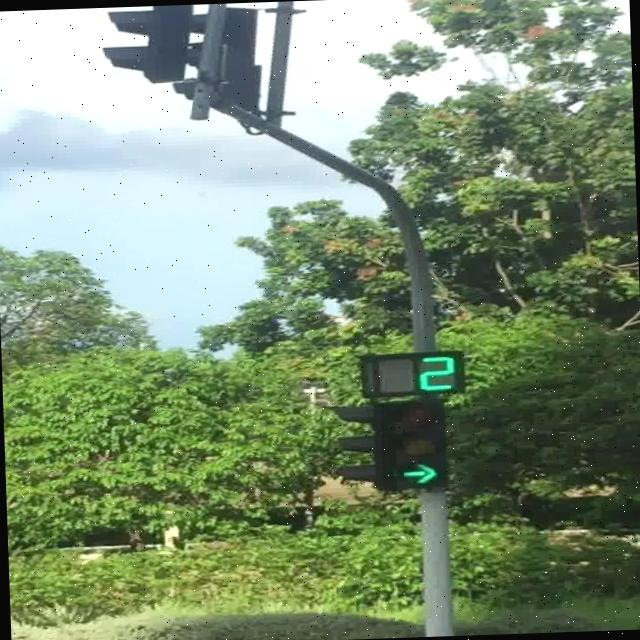green_light: (388, 398, 448, 488)
